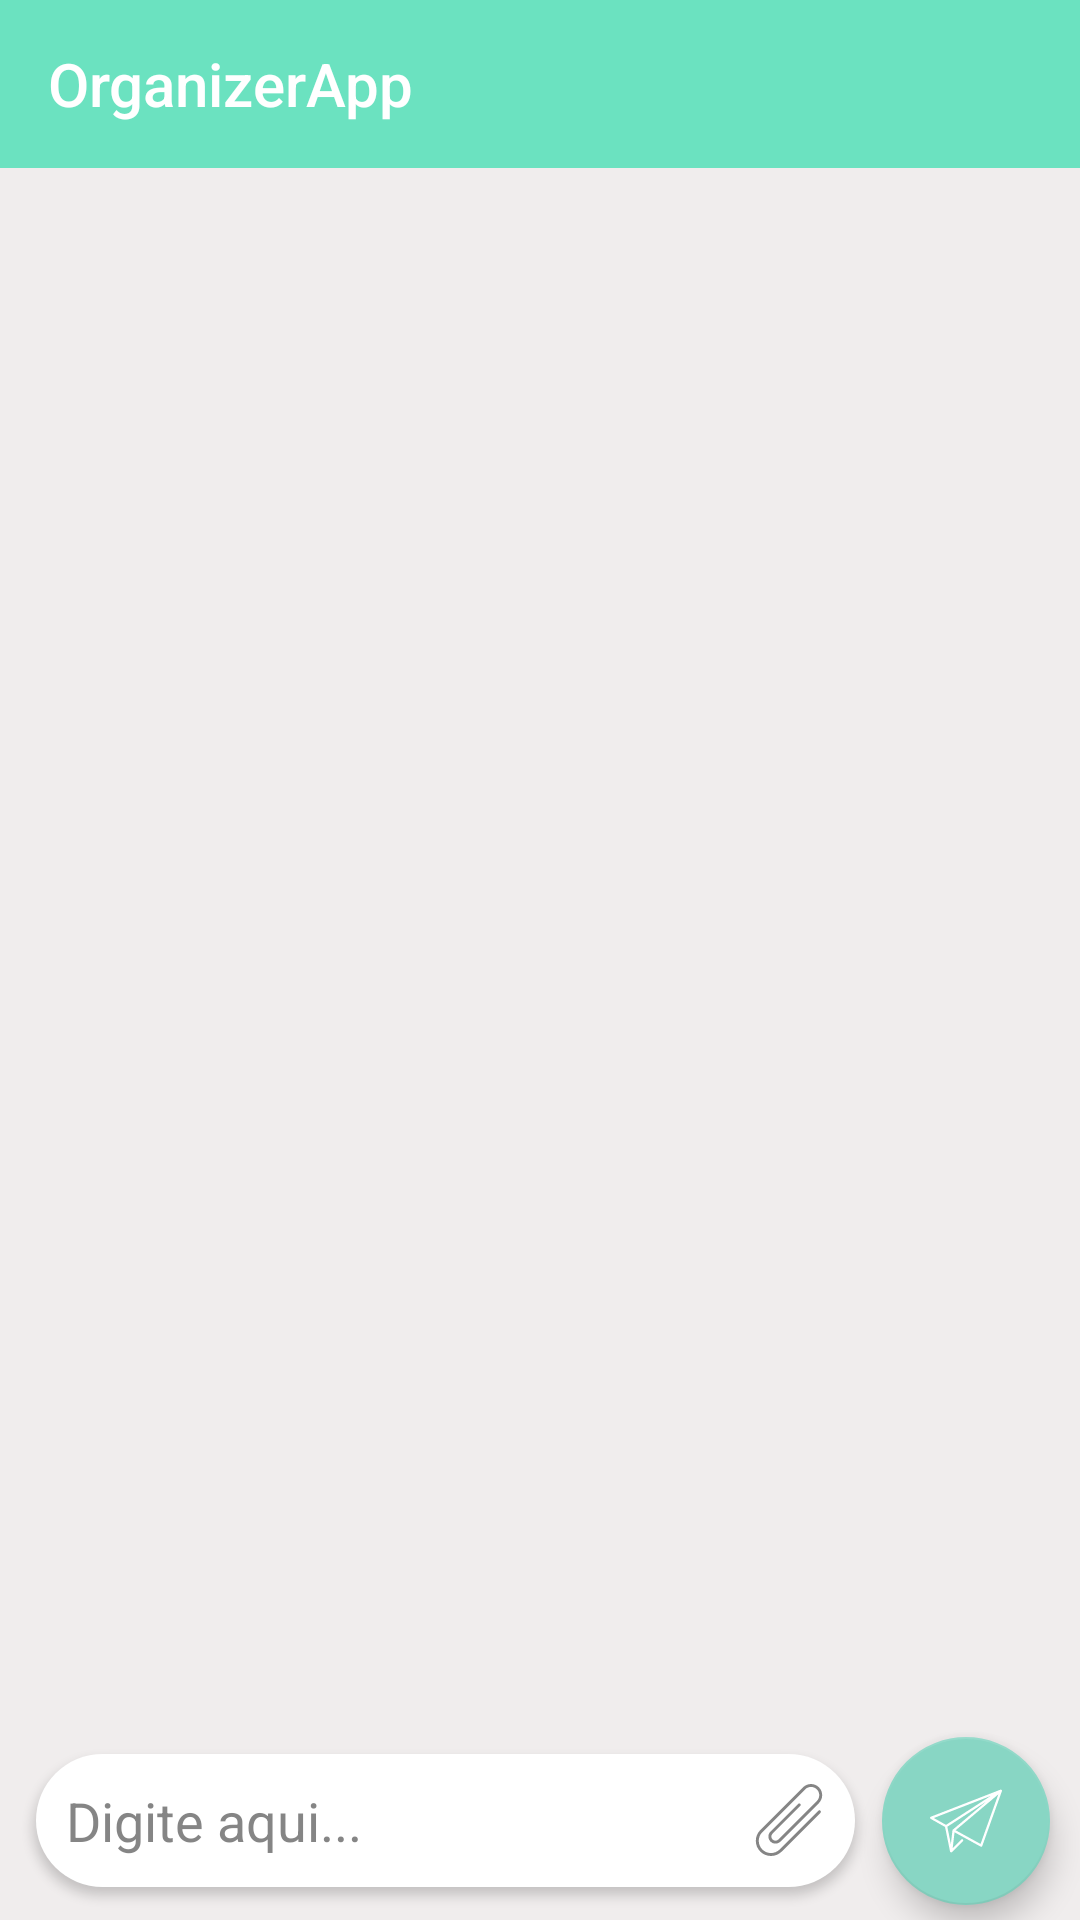

Where to tap for icons on this 1080w x 1920h app screen, as (x=x, y=y):
send: (x=966, y=1821)
